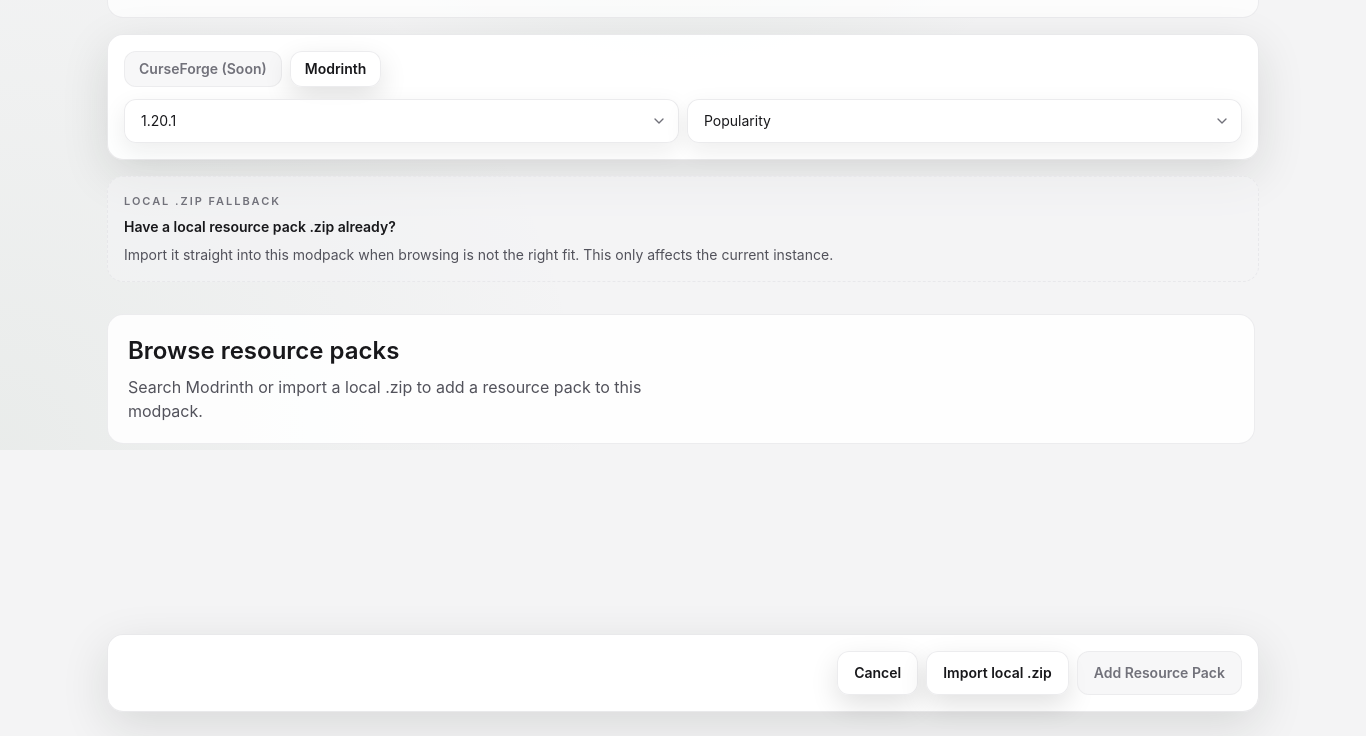
content install recovery › names local resource-pack recovery issues instead of collapsing them into a failed count
(page scrolled)
Click the button "Import local .zip": (997, 673) [926, 651, 1069, 695]
(page scrolled)
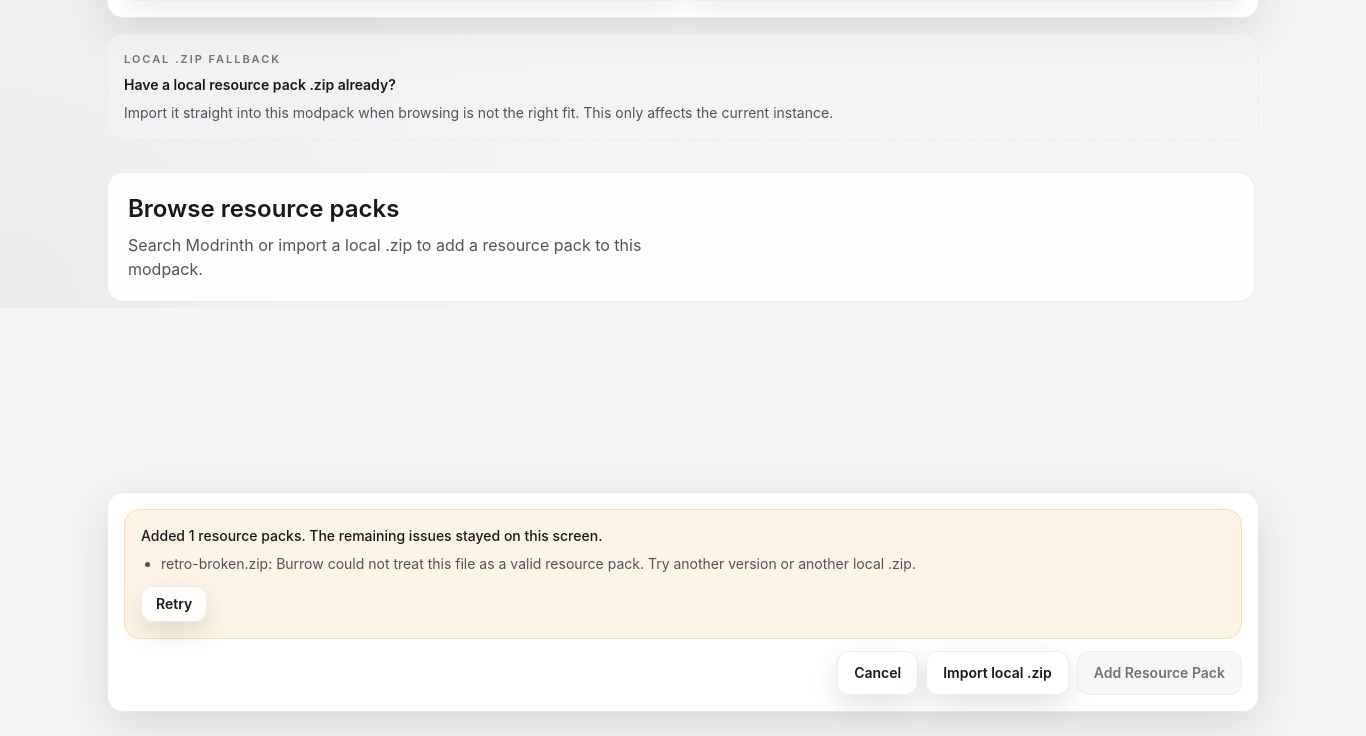
Result: the message with test id "add-mod-page-notice" shows "Added 1 resource packs." at [141, 527, 602, 544]
Result: the message with test id "add-mod-page-notice" shows "retro-broken.zip" at [161, 555, 268, 572]
